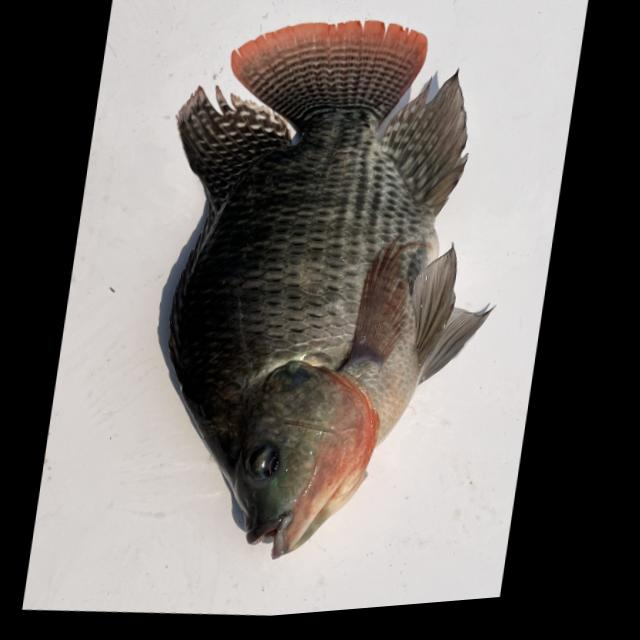Tilapia: (112, 0, 551, 592)
